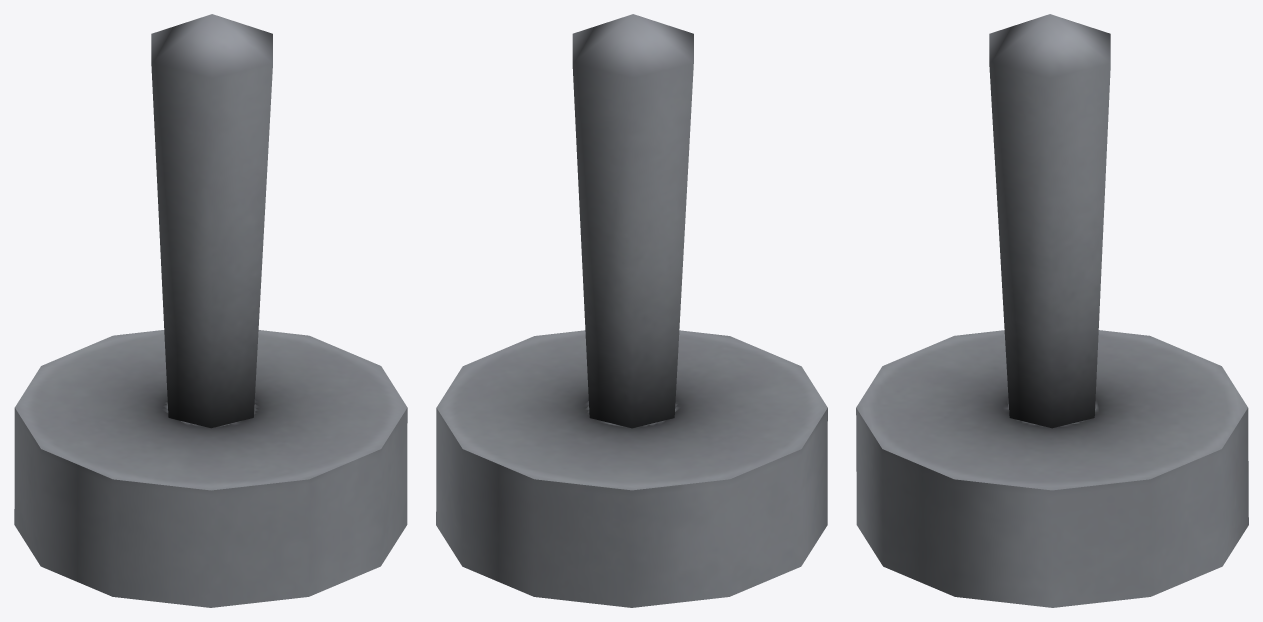
The model's file is Switch 1.fbx.
The picture shows the model from 3 angles, left to right: view 1: azimuth 30°, elevation 25°; view 2: azimuth 150°, elevation 25°; view 3: azimuth 270°, elevation 25°; orthographic projection.
Visible parts, largest first — view 1: Base, Switch; view 2: Base, Switch; view 3: Base, Switch.
Boxes of the visible parts, x1,y1,x2,y2 form: Base: (14,330,407,607); Switch: (151,14,272,428); Base: (436,330,827,607); Switch: (572,14,693,428); Base: (856,330,1248,607); Switch: (989,14,1110,428).
Size of the model in its own units: 2.95 by 4.25 by 2.96.
